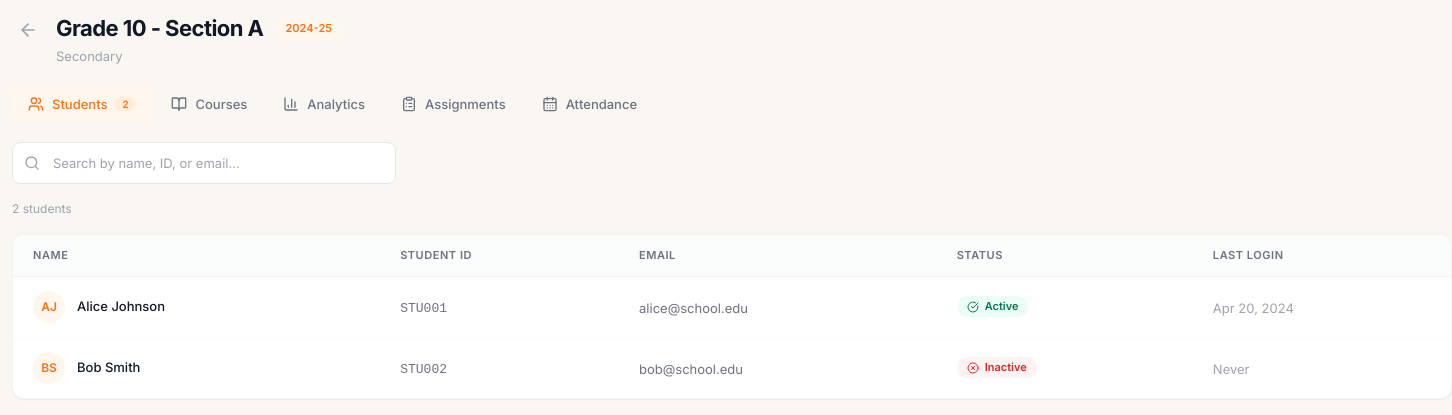
Test: SectionDashboardPage › renders assignment titles in assignments tab
Expected: the text "Alice Johnson" is shown, [77,297,165,316]
Click the tab "Assignments" at (453, 104), box [385,86,522,122]
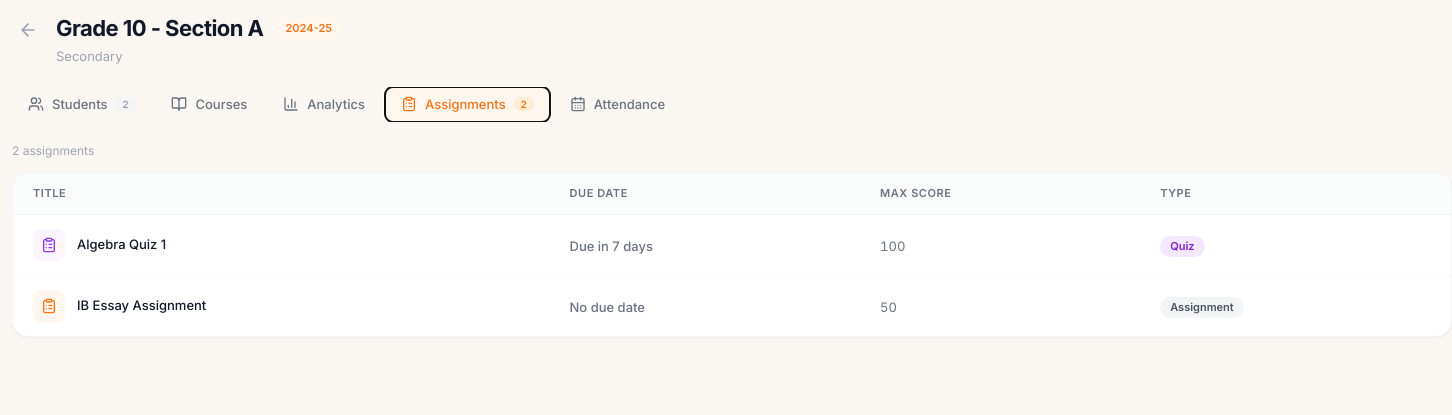
Expected: the text "Algebra Quiz 1" is shown, [77,235,166,254]
Expected: the text "IB Essay Assignment" is shown, [77,296,206,315]
